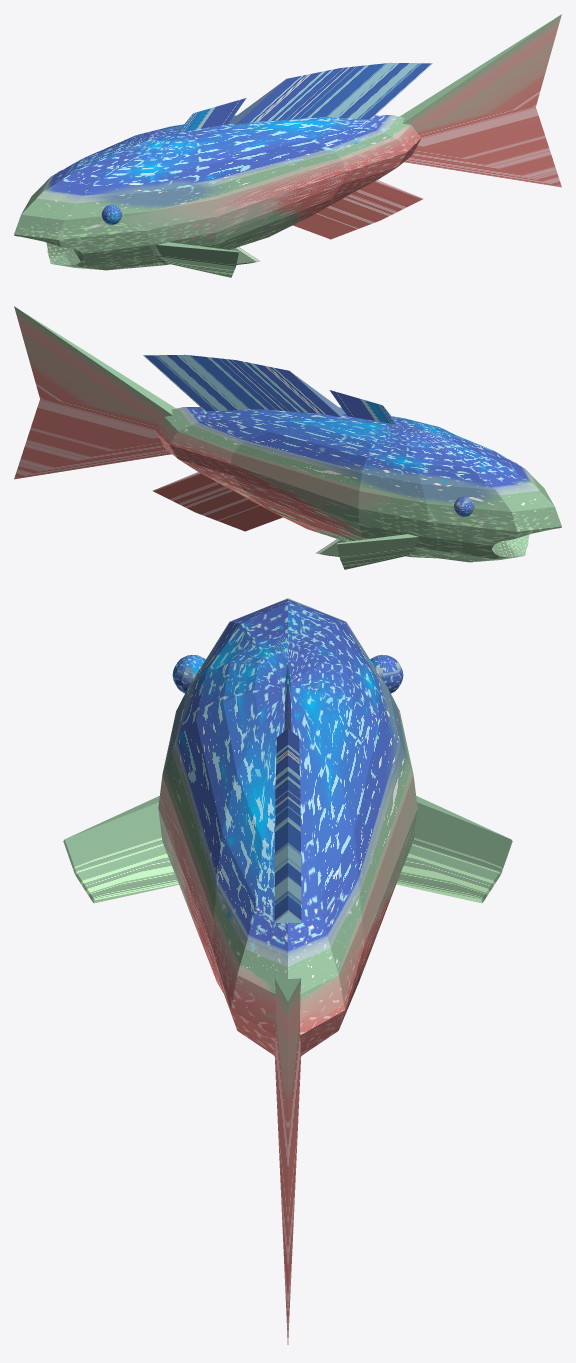
The model's file is Fish.fbx.
3 renders of one model, top to bottom at view 1: azimuth 30°, elevation 25°; view 2: azimuth 150°, elevation 25°; view 3: azimuth 270°, elevation 25°, orthographic. The views are drawn at different scales.
Parts seen in each view (by area): view 1: Sphere; view 2: Sphere; view 3: Sphere.
Part boxes in pixels (x1,y1,x2,y2): Sphere: (14, 14, 561, 277); Sphere: (14, 306, 561, 569); Sphere: (63, 598, 512, 1344).
Bounding box in the file's own units: 264 × 81.04 × 93.89.
